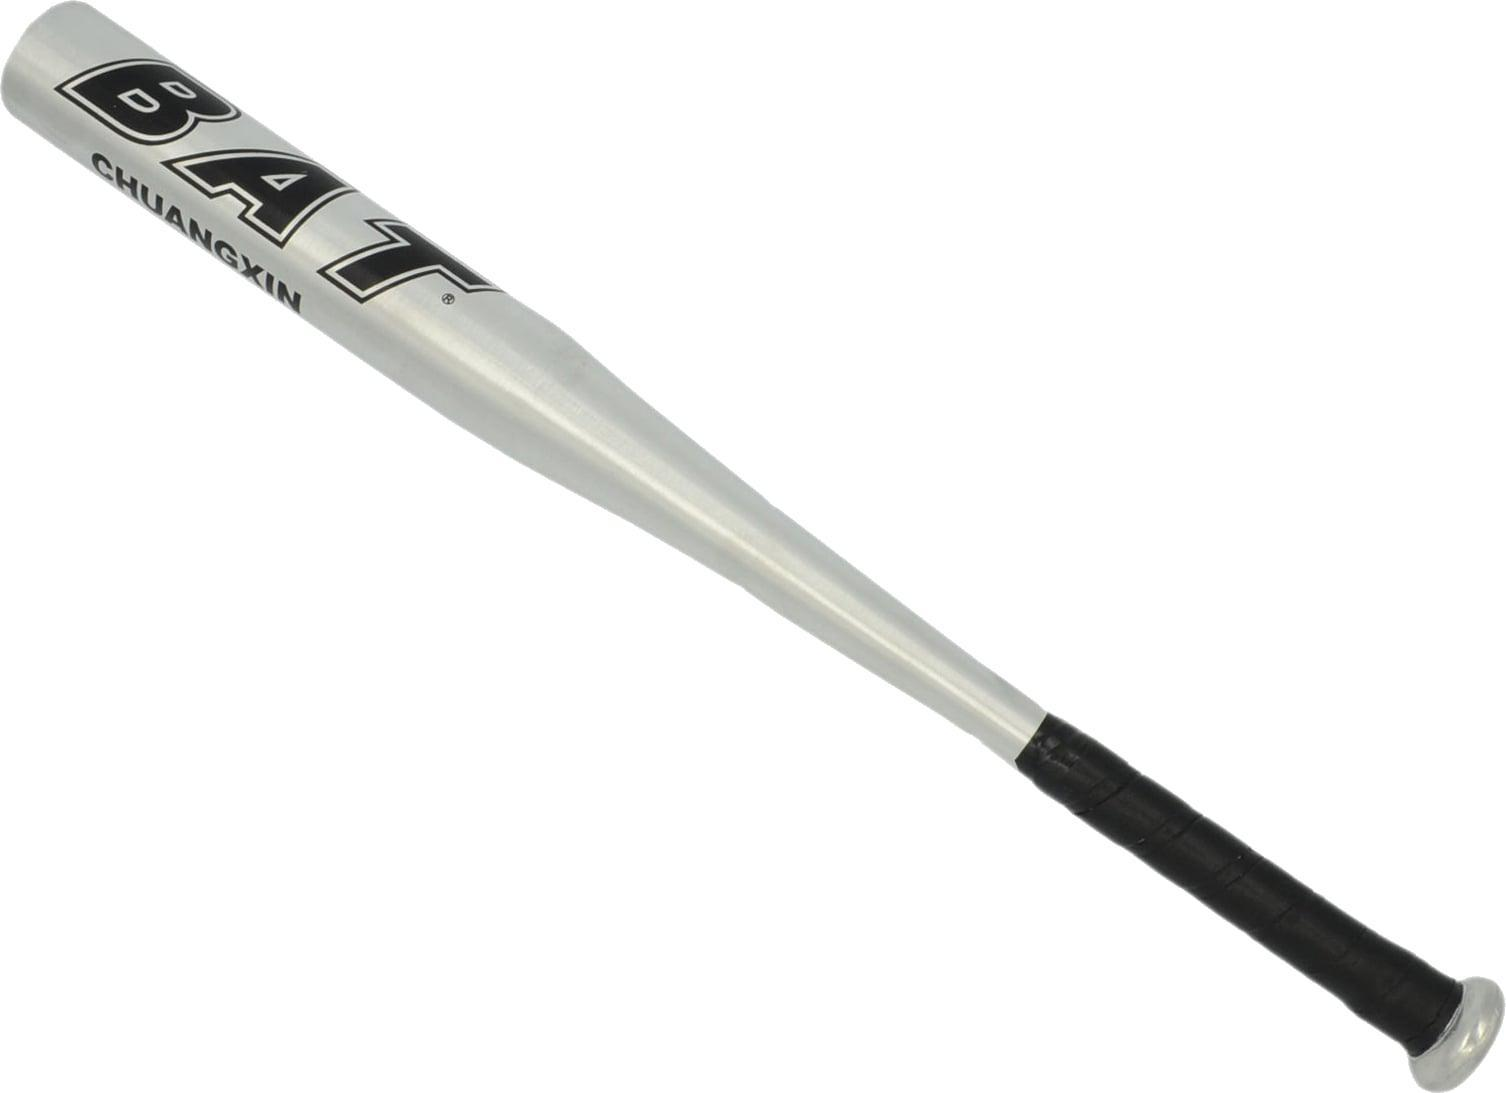Baseball-Bat: (0, 18, 1506, 1093)
